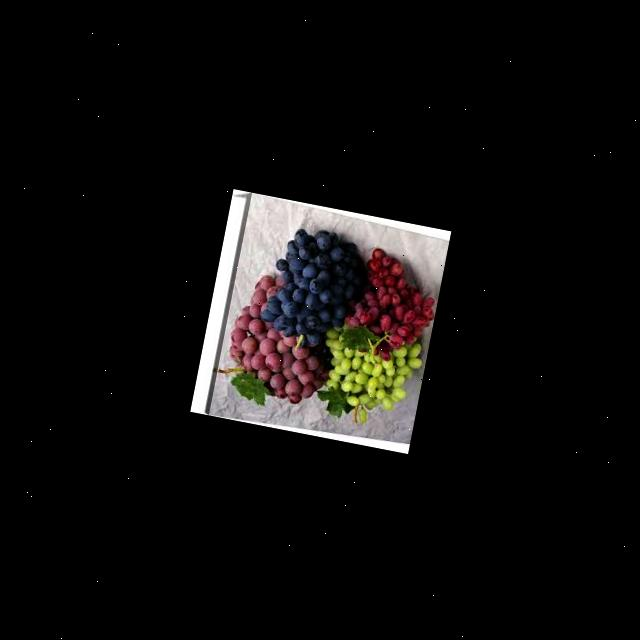grape: (218, 268, 344, 409), (255, 220, 372, 358), (308, 317, 426, 433), (336, 243, 444, 367)
